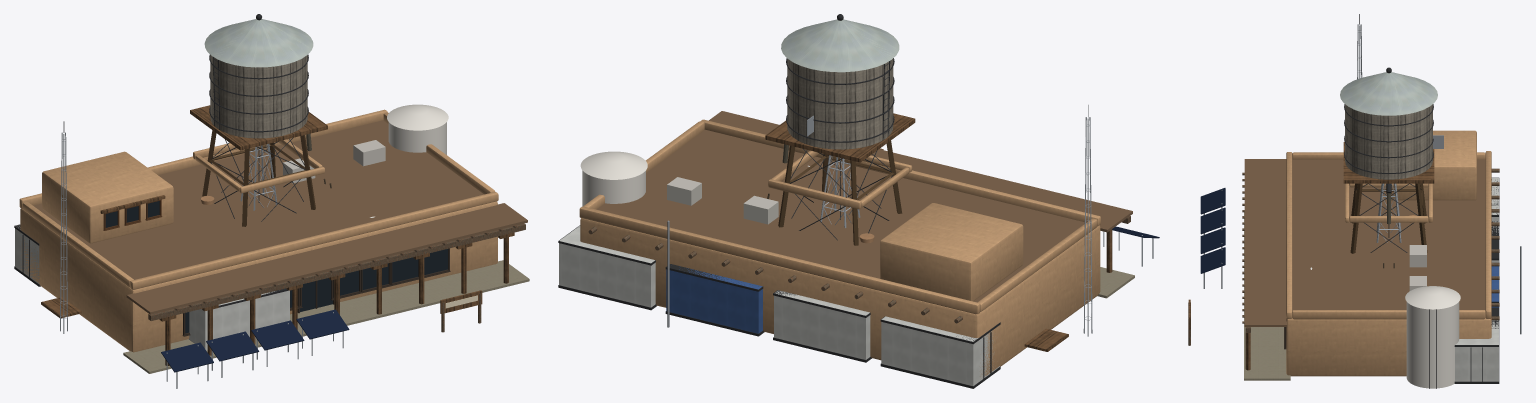
File: props_canyon.glb
3 views of the same model, side by side, from view 1: azimuth 30°, elevation 25°; view 2: azimuth 150°, elevation 25°; view 3: azimuth 270°, elevation 25° (orthographic). The views are drawn at different scales.
Visible parts, largest first — view 1: visitor_center__f_roof_earth, visitor_center__b_adobe_light, water_tower__b_greyplank, visitor_center__b_concrete, water_tower__b_iron, research_station__f_pv, research_station__b_corr_white, visitor_center__b_rawplank, visitor_center__f_glass_dark, water_tower__b_rawplank, visitor_center__b_bark, research_station__f_tank_white (+8 smaller); view 2: visitor_center__b_adobe_light, visitor_center__f_roof_earth, research_station__b_corr_white, water_tower__b_greyplank, water_tower__b_iron, research_station__b_corr_blue, water_tower__b_rawplank, research_station__f_steel_dark, research_station__f_tank_white, water_tower__f_steel_dark, research_station__f_steel_galv, visitor_center__f_hvac (+4 smaller); view 3: visitor_center__f_roof_earth, visitor_center__b_adobe_light, water_tower__b_greyplank, research_station__f_tank_white, water_tower__b_iron, research_station__b_corr_white, visitor_center__b_concrete, research_station__f_pv, water_tower__b_rawplank, water_tower__f_steel_dark, research_station__f_steel_dark, visitor_center__b_bark (+4 smaller).
Part boxes in pixels (box(x1,y1,x2,y2)): visitor_center__f_roof_earth: box(33, 120, 527, 314); visitor_center__b_adobe_light: box(19, 109, 498, 352); water_tower__b_greyplank: box(210, 55, 307, 138); visitor_center__b_concrete: box(123, 260, 529, 373); water_tower__b_iron: box(204, 19, 313, 67); research_station__f_pv: box(161, 309, 349, 372); research_station__b_corr_white: box(15, 225, 289, 350); visitor_center__b_rawplank: box(100, 195, 514, 365); visitor_center__f_glass_dark: box(105, 201, 447, 333); water_tower__b_rawplank: box(190, 105, 327, 226); visitor_center__b_bark: box(148, 223, 525, 332); research_station__f_tank_white: box(387, 104, 448, 154); visitor_center__b_adobe_light: box(579, 119, 1100, 376); visitor_center__f_roof_earth: box(596, 111, 1132, 302); research_station__b_corr_white: box(559, 225, 999, 385); water_tower__b_greyplank: box(787, 58, 893, 149); water_tower__b_iron: box(781, 19, 899, 72); research_station__b_corr_blue: box(666, 268, 762, 333); water_tower__b_rawplank: box(765, 113, 915, 245); research_station__f_steel_dark: box(558, 105, 1088, 388); research_station__f_tank_white: box(580, 151, 647, 206); water_tower__f_steel_dark: box(786, 14, 894, 240); research_station__f_steel_galv: box(667, 117, 1153, 336); visitor_center__f_hvac: box(667, 177, 778, 224); visitor_center__f_roof_earth: box(1244, 159, 1485, 326); visitor_center__b_adobe_light: box(1286, 130, 1491, 376); water_tower__b_greyplank: box(1345, 104, 1432, 179); research_station__f_tank_white: box(1405, 286, 1460, 388); water_tower__b_iron: box(1340, 72, 1437, 115); research_station__b_corr_white: box(1455, 178, 1498, 381); visitor_center__b_concrete: box(1244, 212, 1290, 380); research_station__f_pv: box(1200, 188, 1225, 273); water_tower__b_rawplank: box(1343, 142, 1434, 253); water_tower__f_steel_dark: box(1344, 67, 1433, 252); research_station__f_steel_dark: box(1359, 14, 1499, 388); visitor_center__b_bark: box(1188, 168, 1499, 345).
Size of the model in its own units: 30.14 by 17.57 by 22.76.
27 materials, 9 textured.
